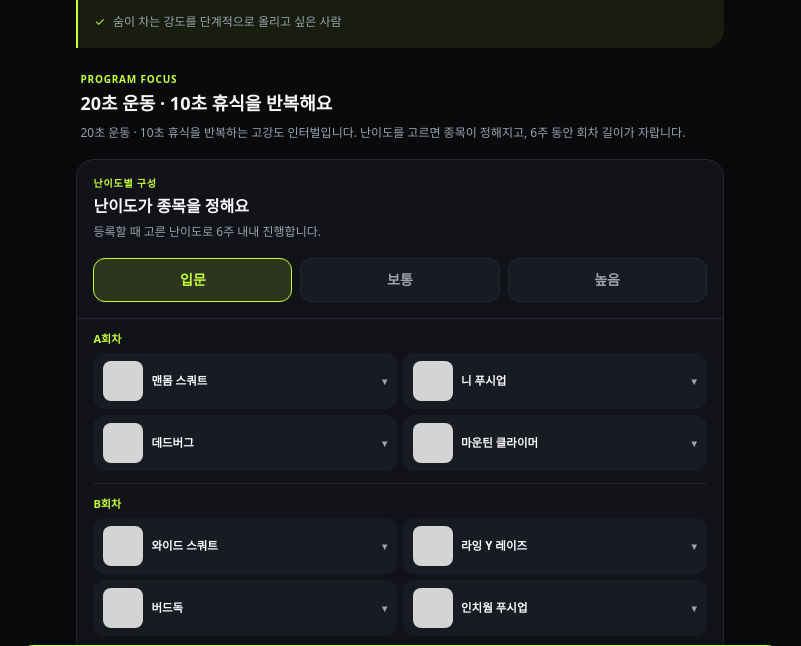
Scenario: IntervalProgramDetail — 종목 설명 (2026-08-13) › 종목을 누르면 그 자리에서 설명이 펼쳐진다
(page scrolled)
Click the button with aria-label "맨몸 스쿼트 설명 보기": {"x": 123, "y": 381} [93,353,397,409]
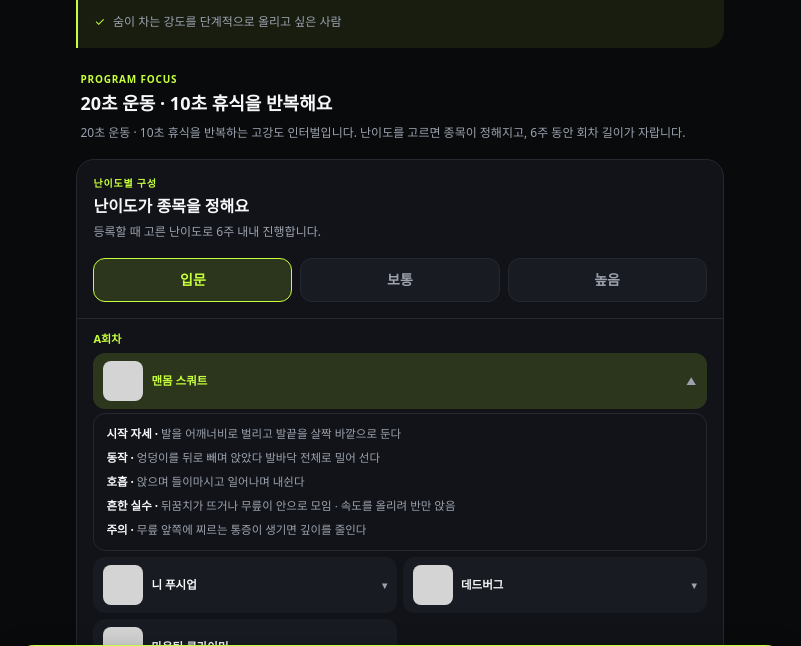
Expected: the button with aria-label "맨몸 스쿼트 설명 보기" is expanded
Expected: the element with test id "interval-exercise-guide" shows "시작 자세", [106,426,152,441]
Expected: the element with test id "interval-exercise-guide" shows "동작", [106,450,128,465]
Click the button with aria-label "맨몸 스쿼트 설명 보기": {"x": 123, "y": 381} [93,353,707,409]
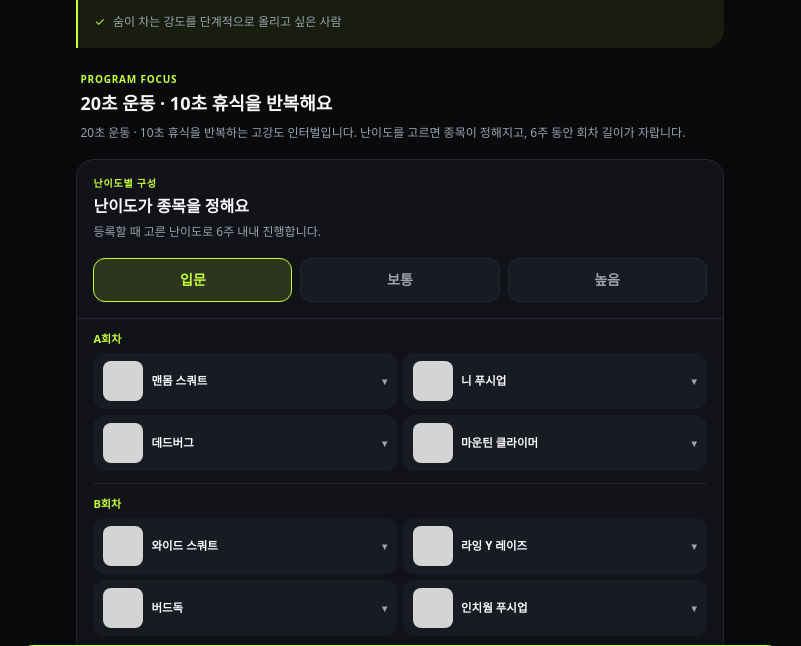
Expected: the element with test id "interval-exercise-guide" is gone
